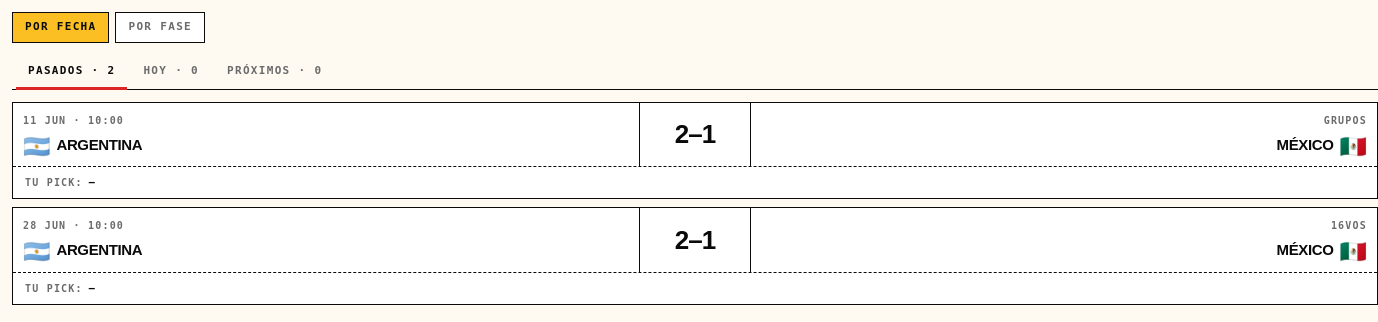
it: MatchTabs › switches to collapsible stage sections, most-recent first, first open
Click the button "Por fase". click: (160, 27)
box: [116,12,205,42]
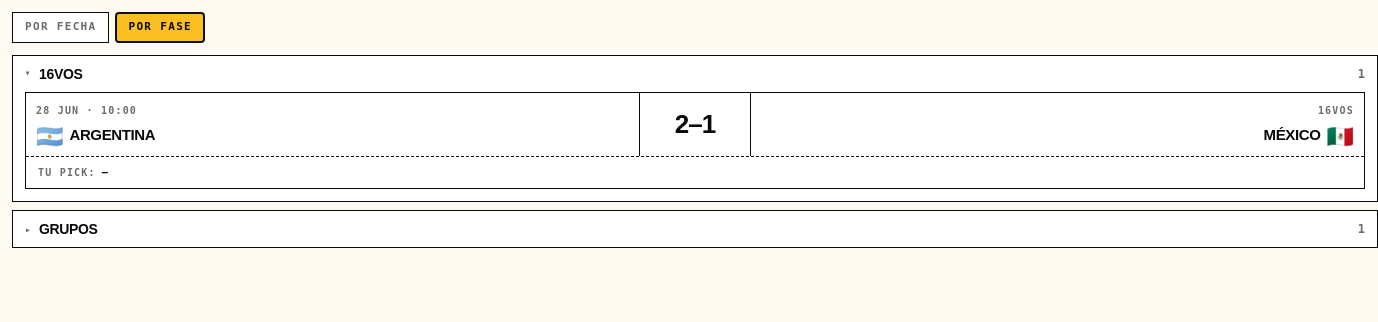
Now the elements with test id "stage-header" read "16vos", "Grupos", in this order, box [39,64,82,84]; [39,219,98,239]
